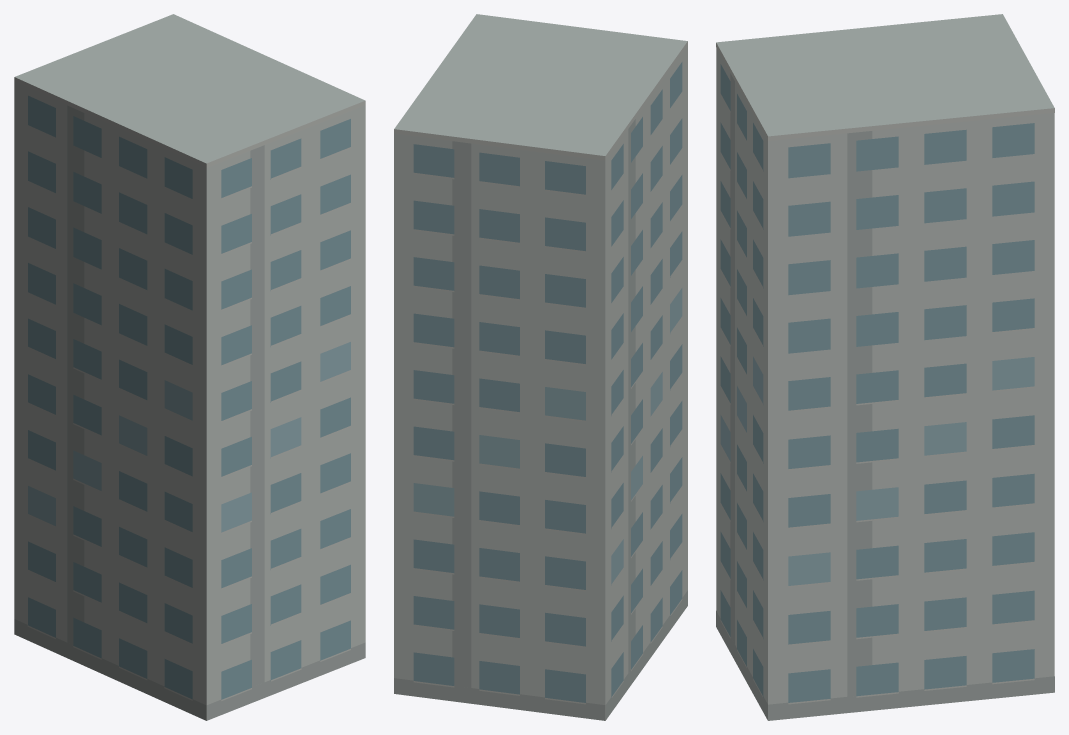
The model's file is residential-b58df0a6-d077-474a-aa46-6876ca2e6003.glb.
3 views of the same model, side by side, from view 1: azimuth 30°, elevation 25°; view 2: azimuth 150°, elevation 25°; view 3: azimuth 270°, elevation 25° (orthographic). The views are drawn at different scales.
Visible parts, largest first — view 1: residential-b58df0a6-d077-474a-aa46-6876ca2e6003.tmp; view 2: residential-b58df0a6-d077-474a-aa46-6876ca2e6003.tmp; view 3: residential-b58df0a6-d077-474a-aa46-6876ca2e6003.tmp.
Part boxes in pixels (x1,y1,x2,y2): residential-b58df0a6-d077-474a-aa46-6876ca2e6003.tmp: (14, 14, 365, 720); residential-b58df0a6-d077-474a-aa46-6876ca2e6003.tmp: (394, 14, 687, 720); residential-b58df0a6-d077-474a-aa46-6876ca2e6003.tmp: (716, 14, 1054, 720).
Bounding box in the file's own units: 13.48 × 30 × 15.76.
